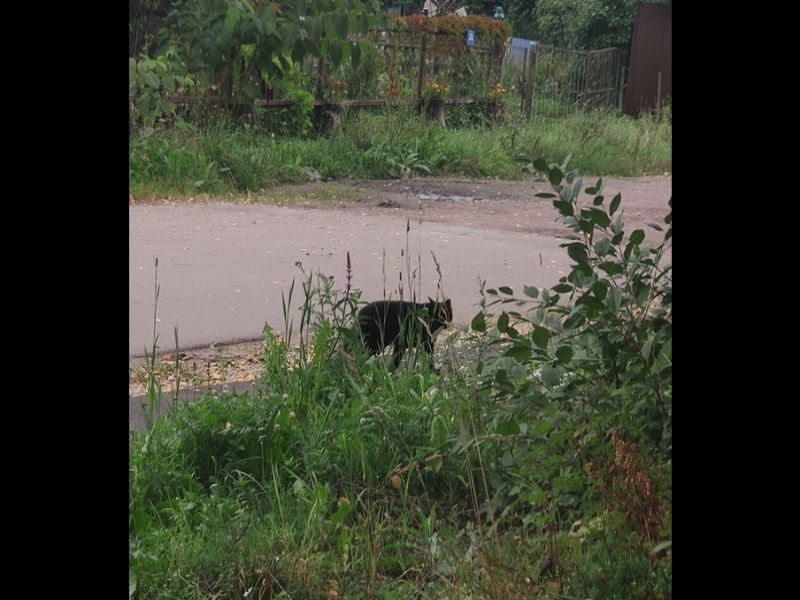cat: (334, 294, 457, 380)
